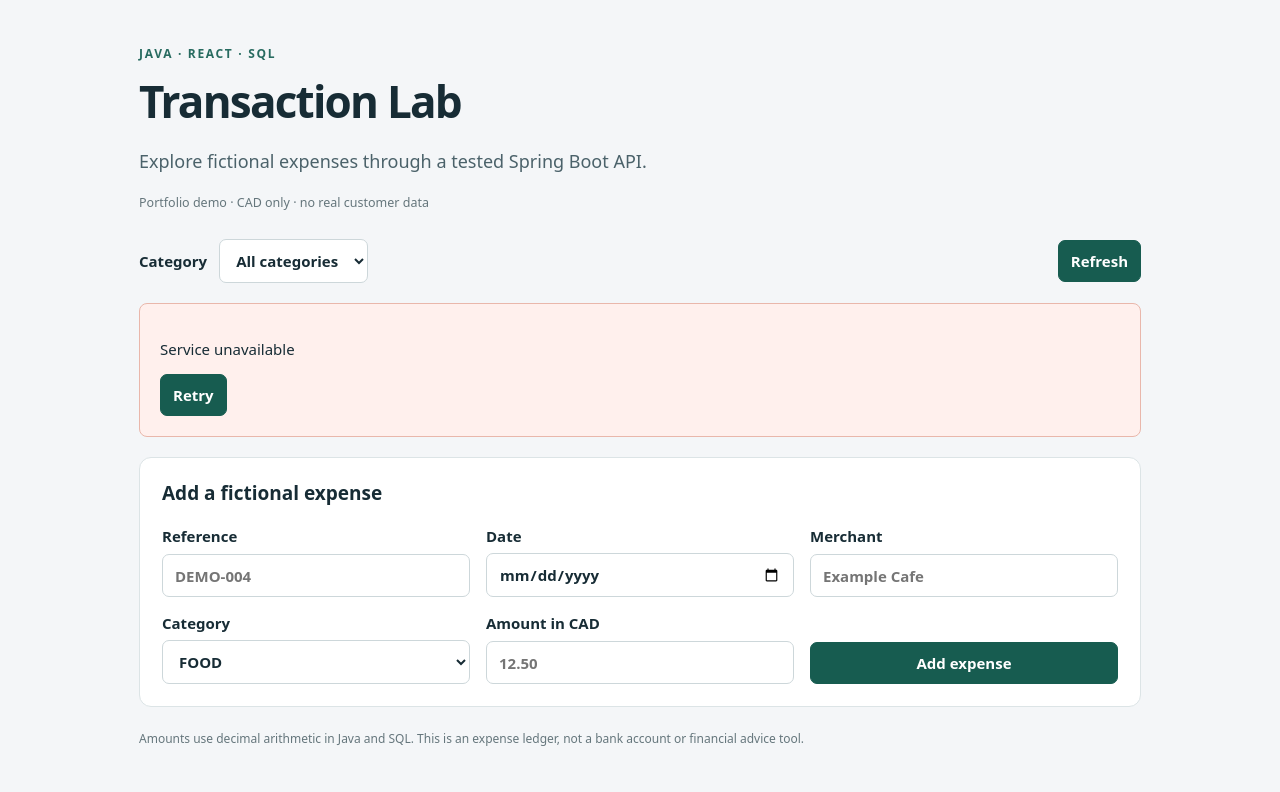
Test: recovers from an initial load failure when Retry is selected
This screenshot has width=1280, height=792.
Expected: the message shows "Service unavailable", [160,339,295,359]
Click the button "Retry" at (193, 395), box [160,374,227,416]
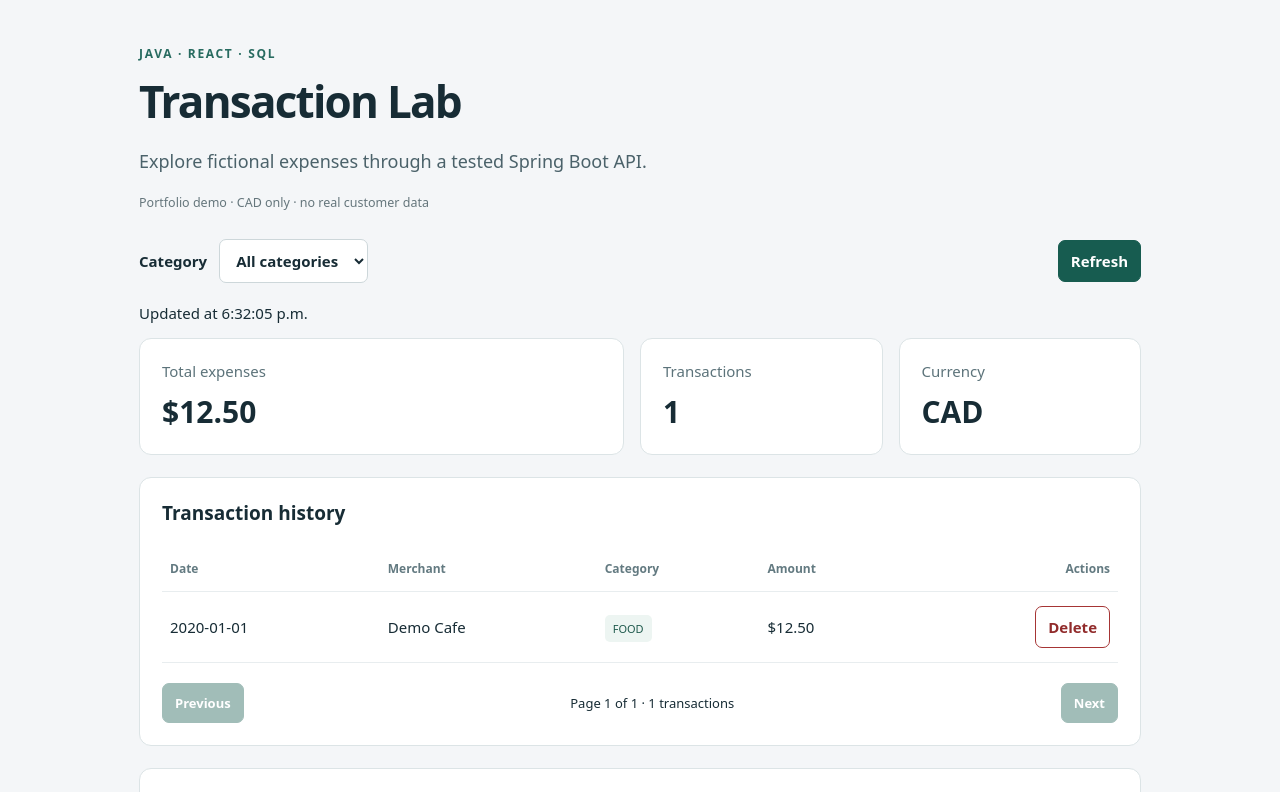
Expected: the text "Demo Cafe" is shown, [380,592,597,662]
